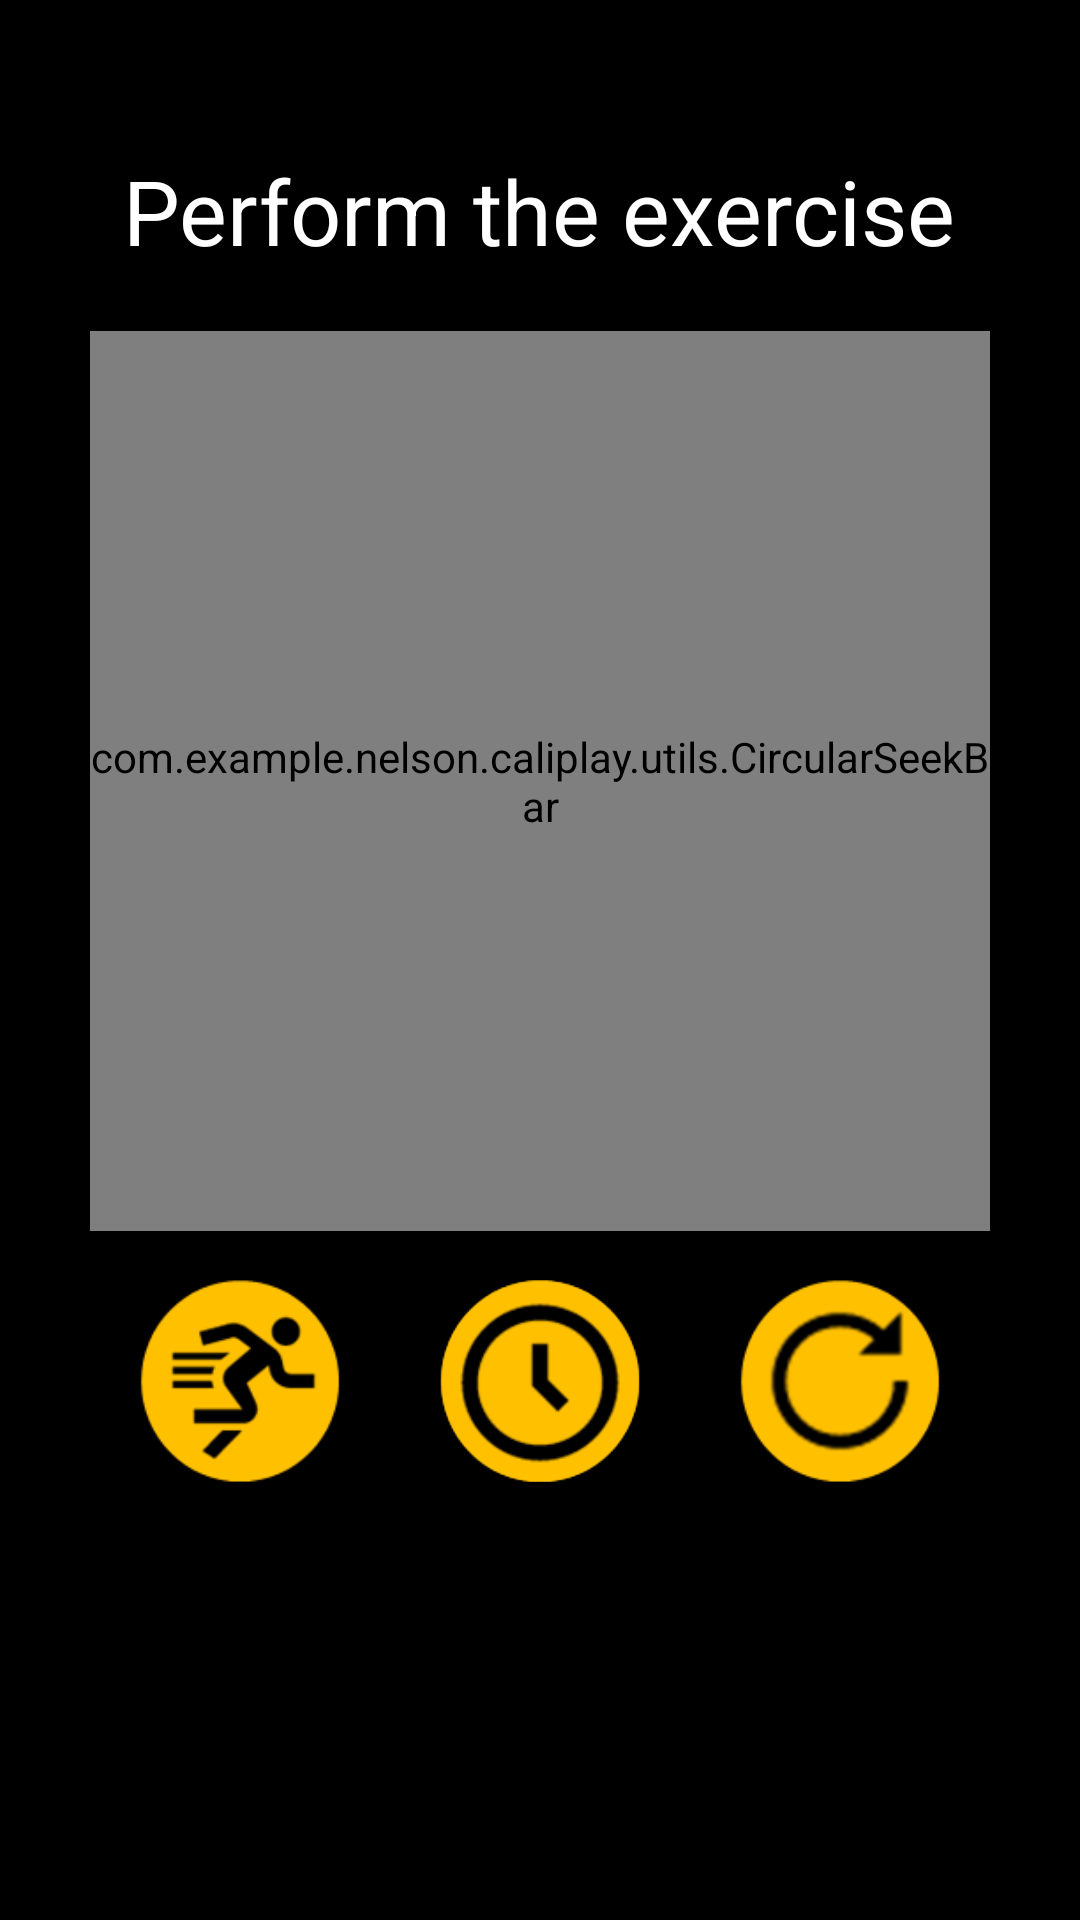

Named icons in this screenshot (1080*1920) and their bounding boxes, bbox=(x1, y1, x2, y2):
fast workout timer: bbox=(140, 1280, 340, 1482)
redo workout timer: bbox=(740, 1280, 940, 1482)
